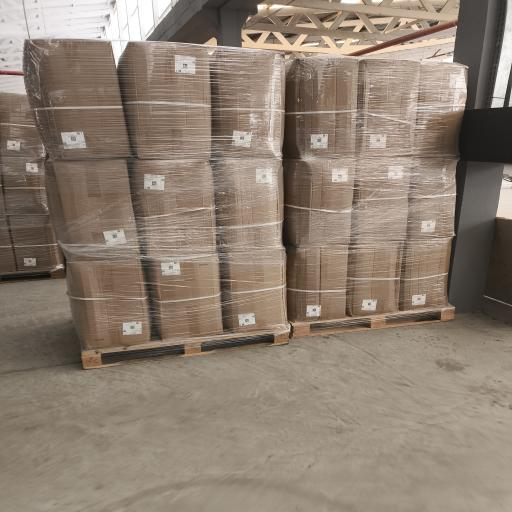pallet: (82, 330, 289, 369), (291, 305, 454, 338), (0, 269, 65, 282)
